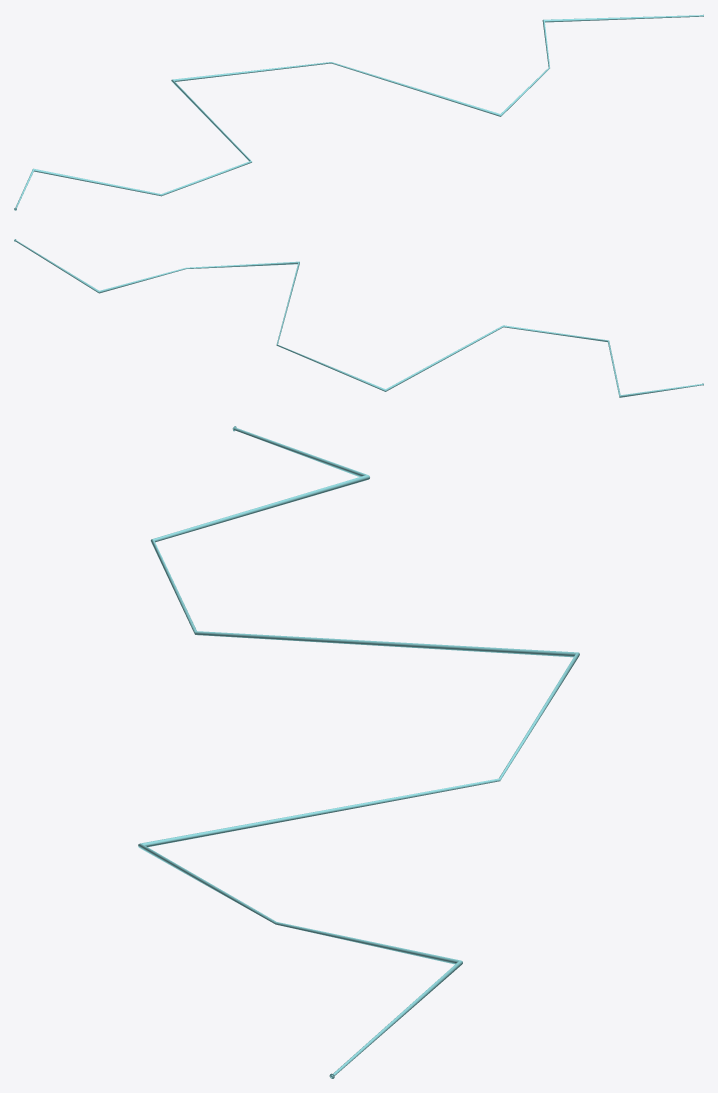
Rendered from Stage_select.fbx.
The picture shows the model from 3 angles, top to bottom: view 1: azimuth 30°, elevation 25°; view 2: azimuth 150°, elevation 25°; view 3: azimuth 270°, elevation 25°; orthographic projection. The views are drawn at different scales.
Visible parts, largest first — view 1: Cylinder; view 2: Cylinder; view 3: Cylinder.
Part boxes in pixels (left/top/right/bottom): Cylinder: left=14, top=14, right=703, bottom=210; Cylinder: left=14, top=239, right=703, bottom=397; Cylinder: left=138, top=426, right=579, bottom=1078.
Bounding box in the file's own units: 1.23 × 4.29 × 0.016.
